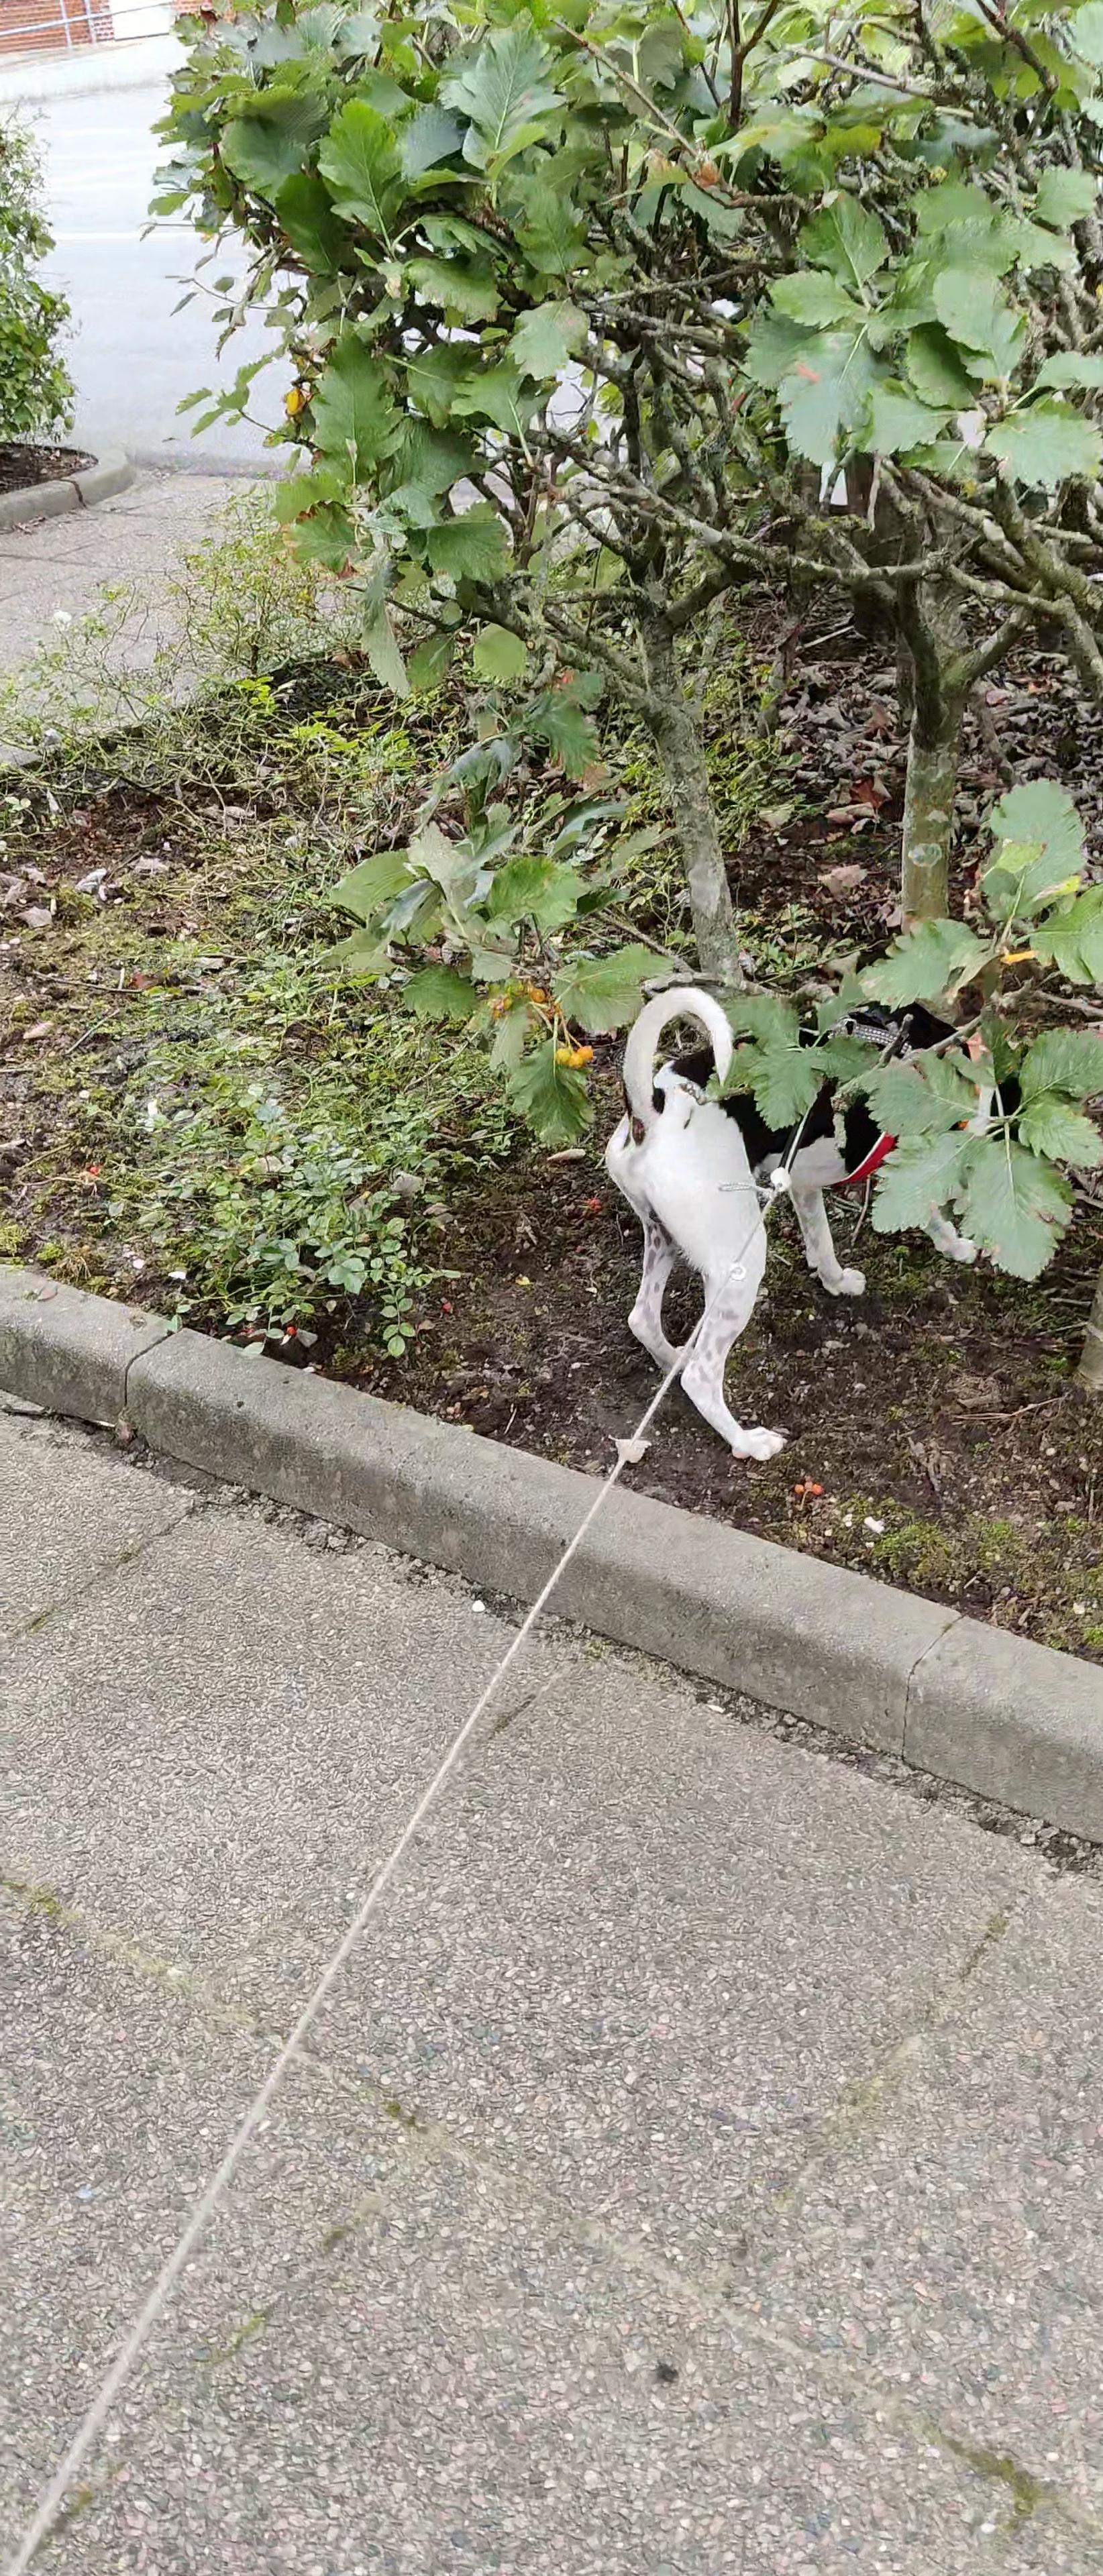Dog: (577, 941, 1044, 1480)
